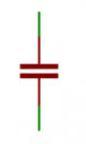Capacitor: (13, 44, 70, 92)
